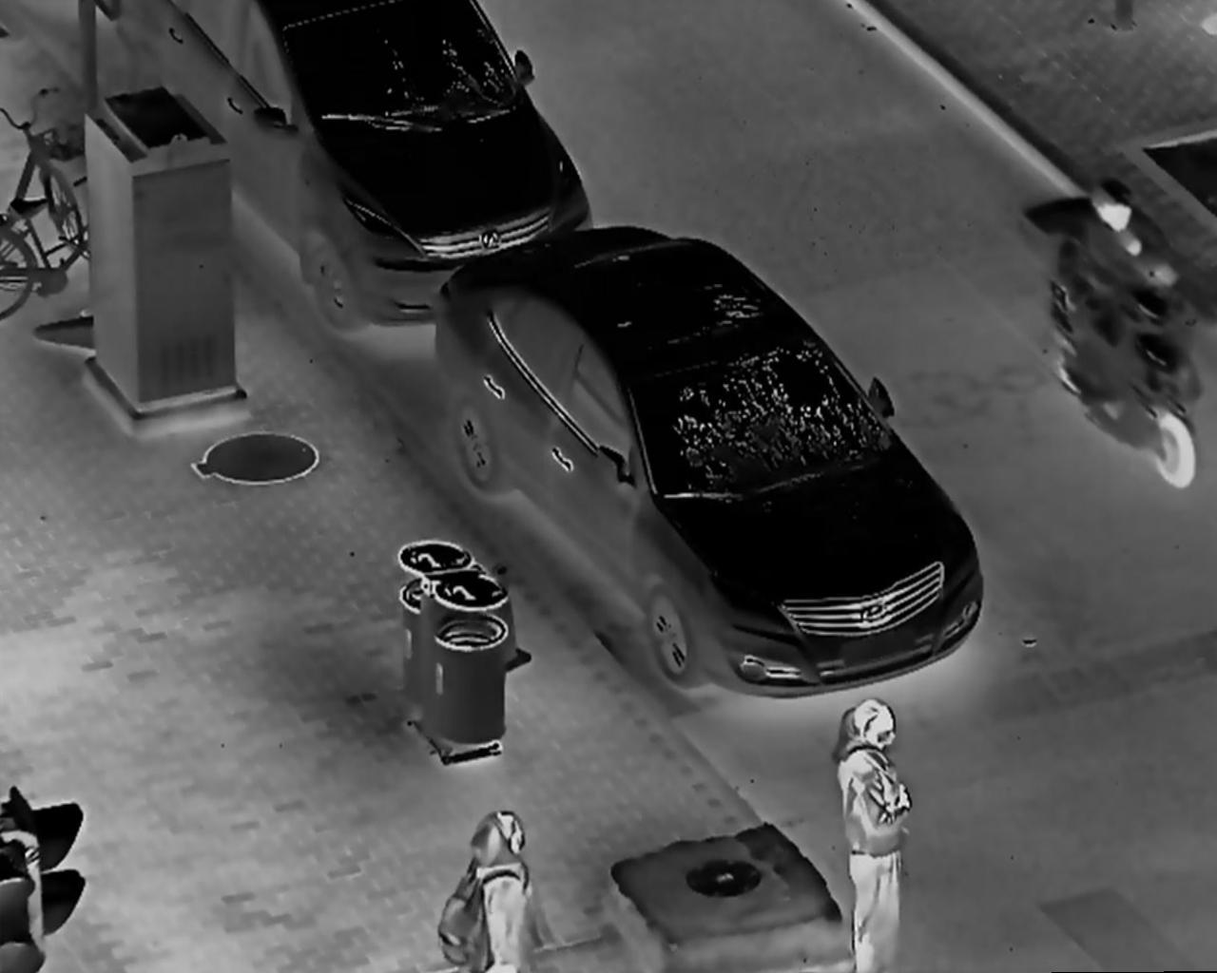person: (1069, 170, 1190, 433), (829, 696, 922, 973), (437, 808, 531, 973)
